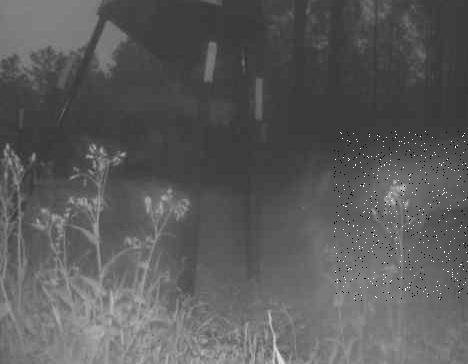Deer: (334, 131, 468, 301)
